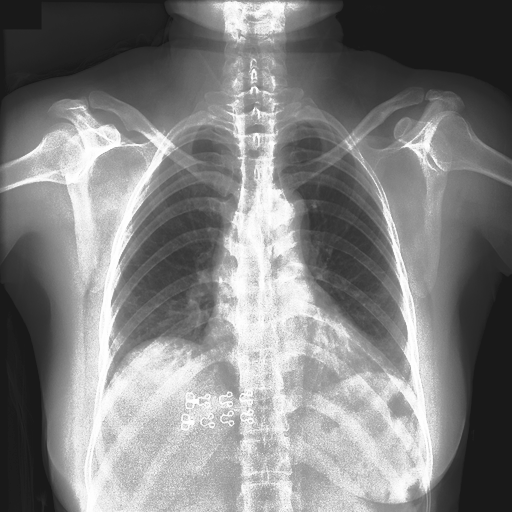Consolidation: (256, 186, 311, 244)
Nodule/Mass: (202, 317, 390, 403)
